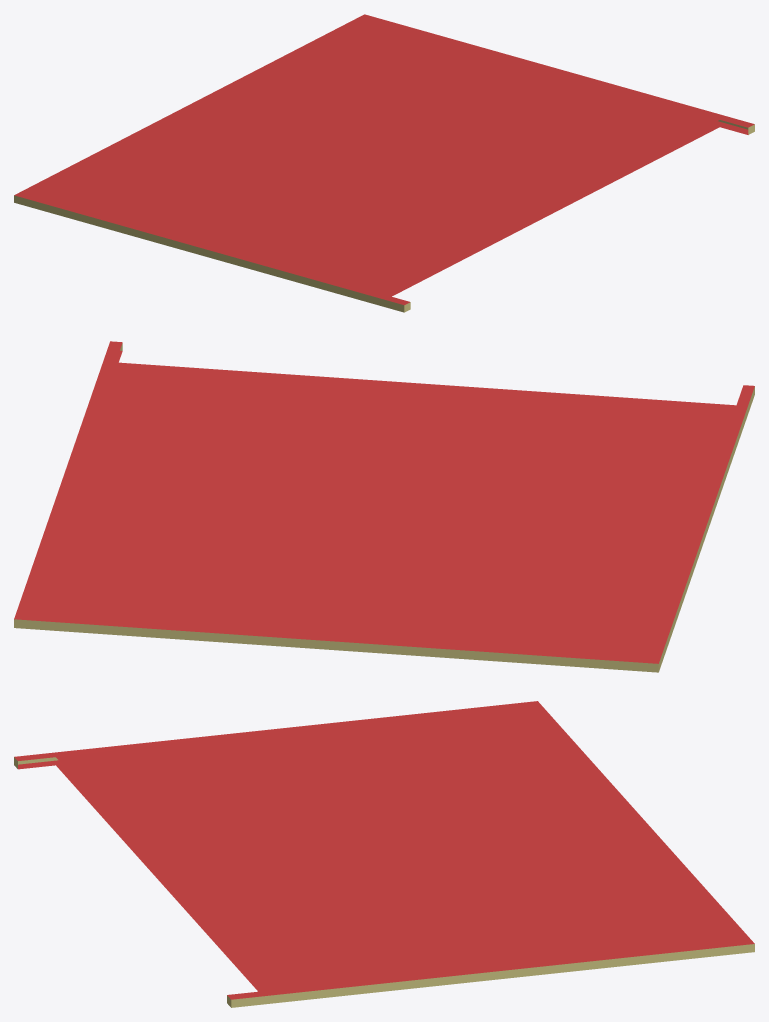
3 views of the same model, one above another, from view 1: azimuth 30°, elevation 25°; view 2: azimuth 150°, elevation 25°; view 3: azimuth 270°, elevation 25° (orthographic). The views are drawn at different scales.
Size of the model in its own units: 8.53 by 8.18 by 0.439.
